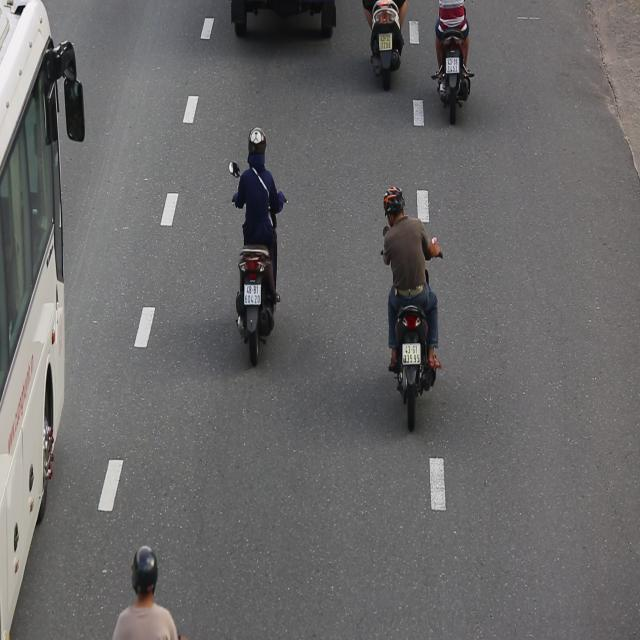motorbike: (372, 176, 448, 445), (221, 115, 292, 379)
